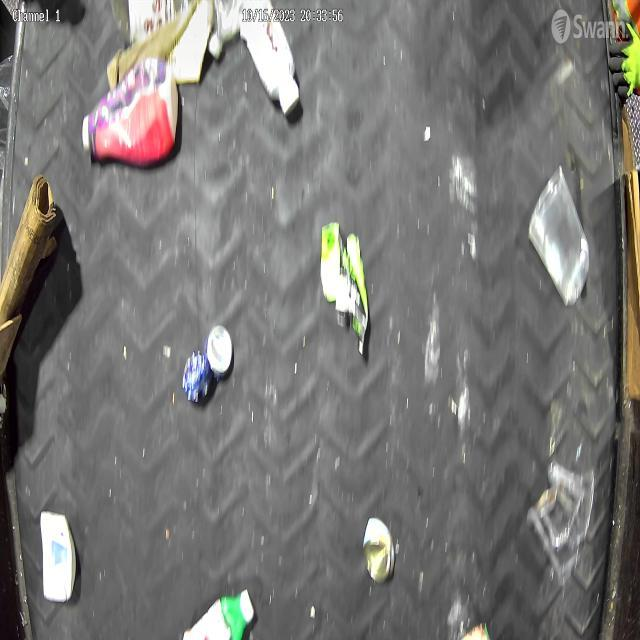can: (182, 310, 236, 417), (362, 511, 395, 589)
